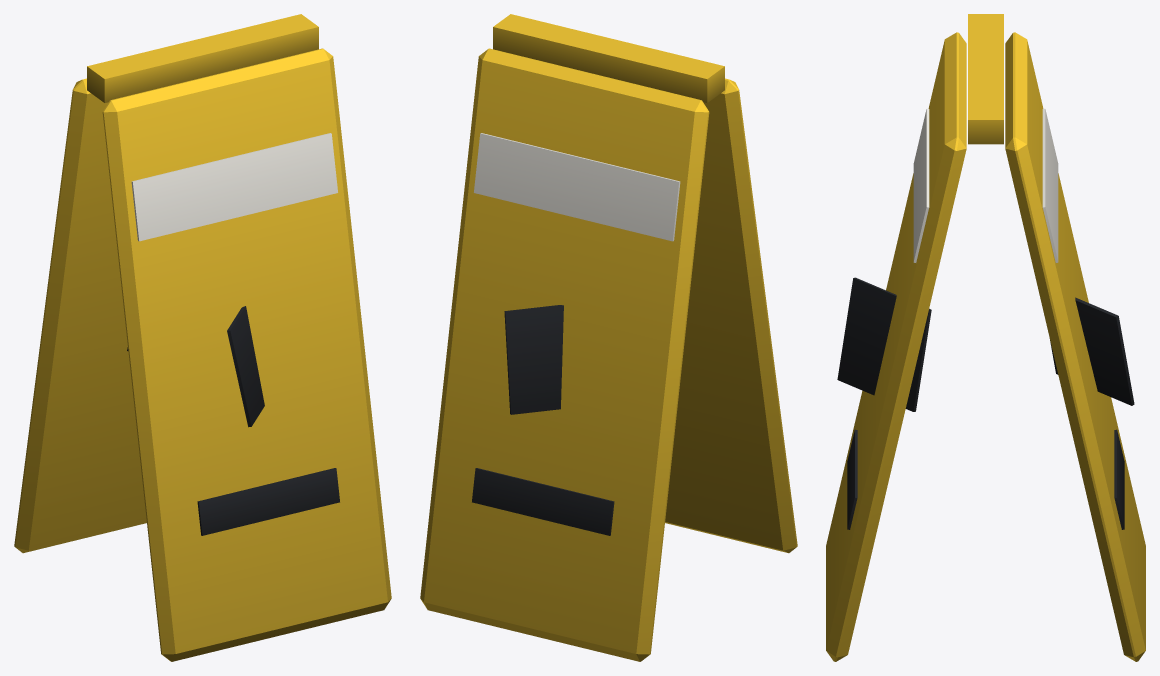
File: wet_floor_sign_01.glb
3 renders of one model, left to right at view 1: azimuth 30°, elevation 25°; view 2: azimuth 150°, elevation 25°; view 3: azimuth 270°, elevation 25°, orthographic.
Parts seen in each view (by area): view 1: wet_floor_sign_01_LOD0; view 2: wet_floor_sign_01_LOD0; view 3: wet_floor_sign_01_LOD0.
Boxes of the visible parts, x1=… form: wet_floor_sign_01_LOD0: x1=14, y1=14, x2=391, y2=661; wet_floor_sign_01_LOD0: x1=420, y1=14, x2=797, y2=661; wet_floor_sign_01_LOD0: x1=826, y1=14, x2=1145, y2=661.
Size of what is drawn, in the model's own units: 0.3 by 0.668 by 0.357.
1 material, 1 textured.
